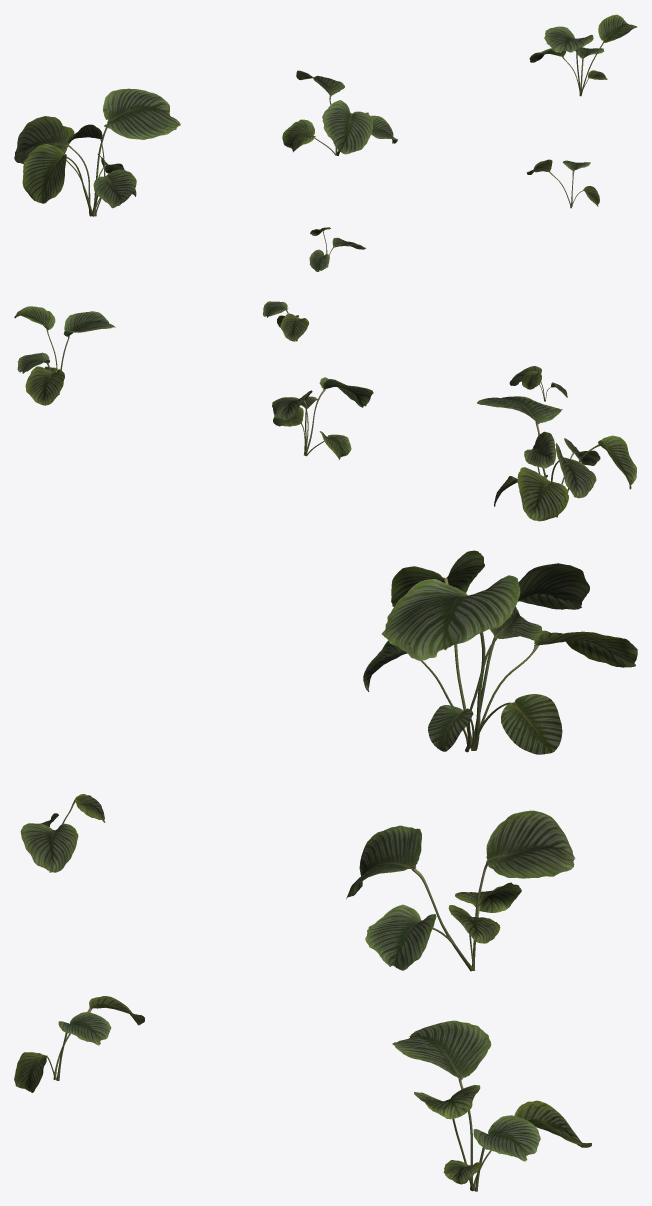
The model's file is calathea_orbifolia_01.glb.
The picture shows the model from 3 angles, top to bottom: view 1: azimuth 30°, elevation 25°; view 2: azimuth 150°, elevation 25°; view 3: azimuth 270°, elevation 25°; orthographic projection. The views are drawn at different scales.
Visible parts, largest first — view 1: calathea_orbifolia_01_a, calathea_orbifolia_01_b, calathea_orbifolia_01_c, calathea_orbifolia_01_e, calathea_orbifolia_01_d; view 2: calathea_orbifolia_01_a, calathea_orbifolia_01_c, calathea_orbifolia_01_b, calathea_orbifolia_01_e, calathea_orbifolia_01_d; view 3: calathea_orbifolia_01_a, calathea_orbifolia_01_b, calathea_orbifolia_01_c, calathea_orbifolia_01_e, calathea_orbifolia_01_d.
Part boxes in pixels (bbox=[...]): calathea_orbifolia_01_a: bbox=[14, 88, 180, 216]; calathea_orbifolia_01_b: bbox=[282, 70, 397, 155]; calathea_orbifolia_01_c: bbox=[529, 14, 636, 96]; calathea_orbifolia_01_e: bbox=[527, 159, 599, 208]; calathea_orbifolia_01_d: bbox=[309, 227, 365, 271]; calathea_orbifolia_01_a: bbox=[477, 396, 636, 521]; calathea_orbifolia_01_c: bbox=[14, 306, 115, 405]; calathea_orbifolia_01_b: bbox=[272, 377, 373, 459]; calathea_orbifolia_01_e: bbox=[263, 301, 308, 341]; calathea_orbifolia_01_d: bbox=[509, 366, 567, 401]; calathea_orbifolia_01_a: bbox=[363, 550, 637, 754]; calathea_orbifolia_01_b: bbox=[346, 810, 575, 971]; calathea_orbifolia_01_c: bbox=[392, 1020, 591, 1191]; calathea_orbifolia_01_e: bbox=[14, 996, 144, 1092]; calathea_orbifolia_01_d: bbox=[20, 794, 105, 872].
Size of the model in its own units: 2.49 by 0.4243 by 1.19.
Materials: 1 (1 with a texture image).
